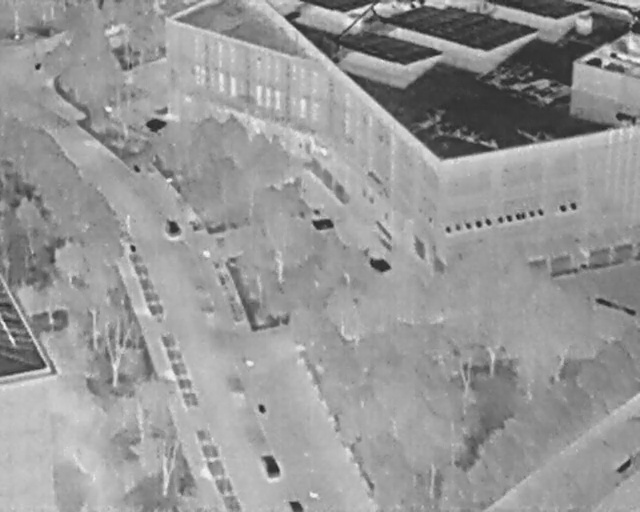Car: (259, 452, 282, 480), (161, 215, 183, 240), (288, 499, 304, 512)
